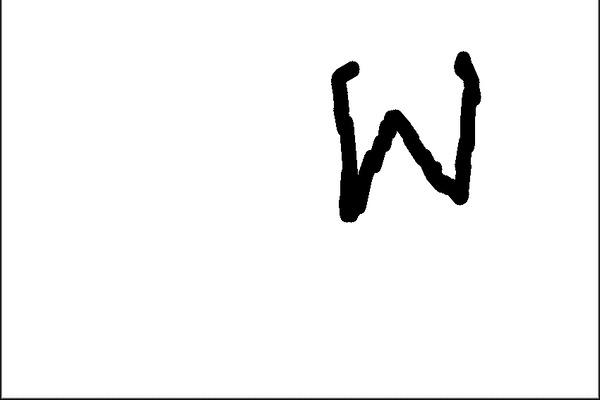w: (303, 39, 496, 235)
